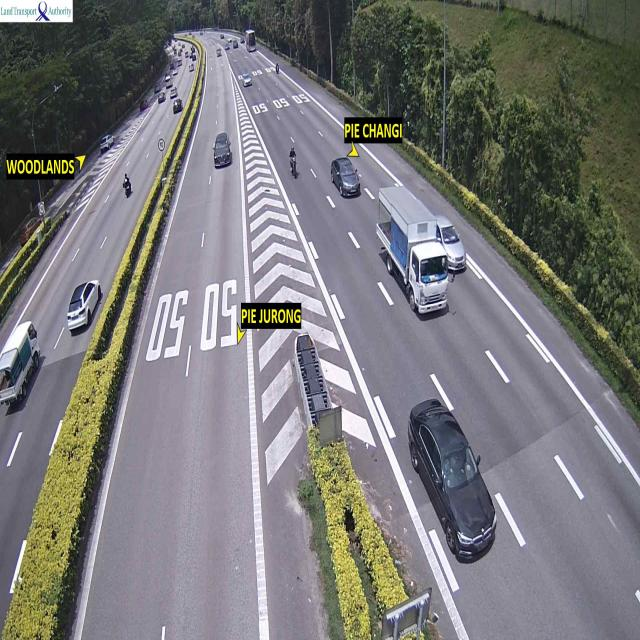bus: (376, 185, 468, 319)
car: (408, 398, 497, 562), (65, 281, 101, 333), (331, 159, 362, 199), (214, 134, 233, 170), (241, 75, 253, 88)
